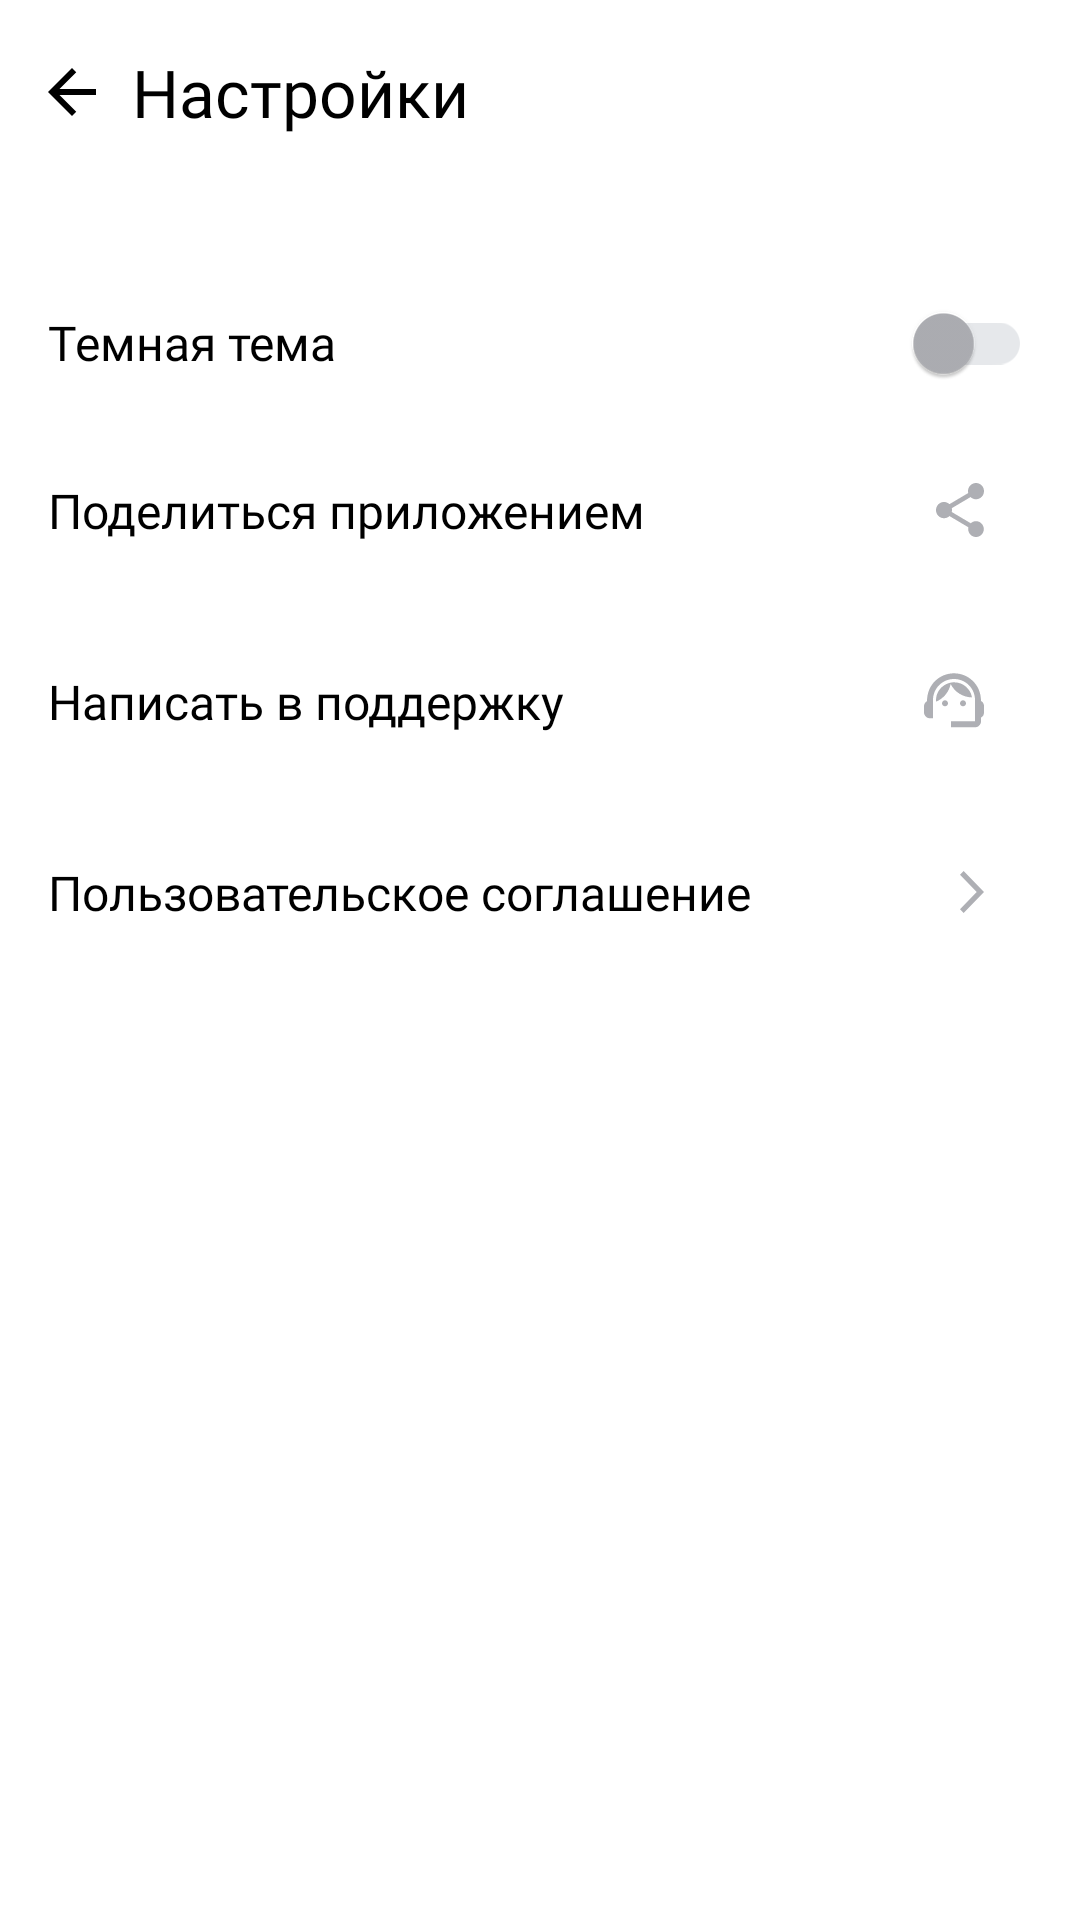

Where to tap for icons on this 1080x1920 app screen, as [x,y]:
back: [72,92]
chevron: [972,892]
share: [960,510]
support: [954,700]
